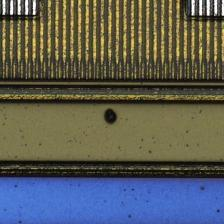PARTICLE: (100, 106, 123, 128)
